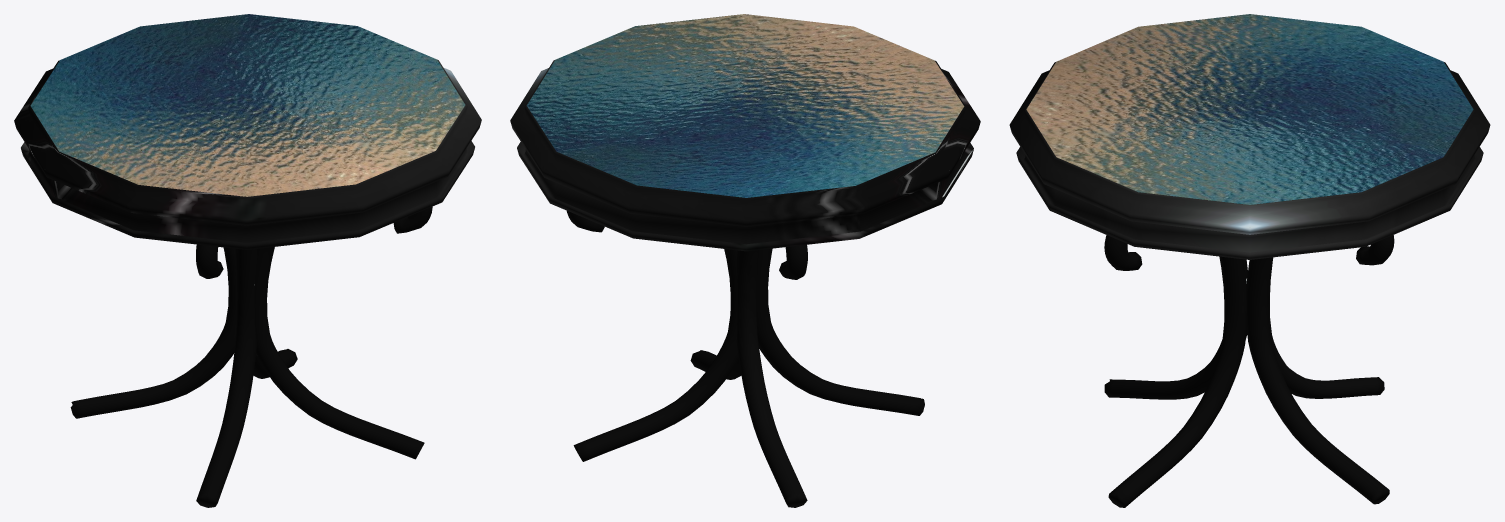
The model's file is table4.glb.
3 views of the same model, side by side, from view 1: azimuth 30°, elevation 25°; view 2: azimuth 150°, elevation 25°; view 3: azimuth 270°, elevation 25° (orthographic). The views are drawn at different scales.
Visible parts, largest first — view 1: roundTable; view 2: roundTable; view 3: roundTable.
Boxes of the visible parts, x1,y1,x2,y2 form: roundTable: [14, 14, 481, 507]; roundTable: [510, 14, 980, 507]; roundTable: [1009, 14, 1490, 507].
Size of the model in its own units: 1.68 by 1.31 by 1.66.
2 materials, 2 textured.
